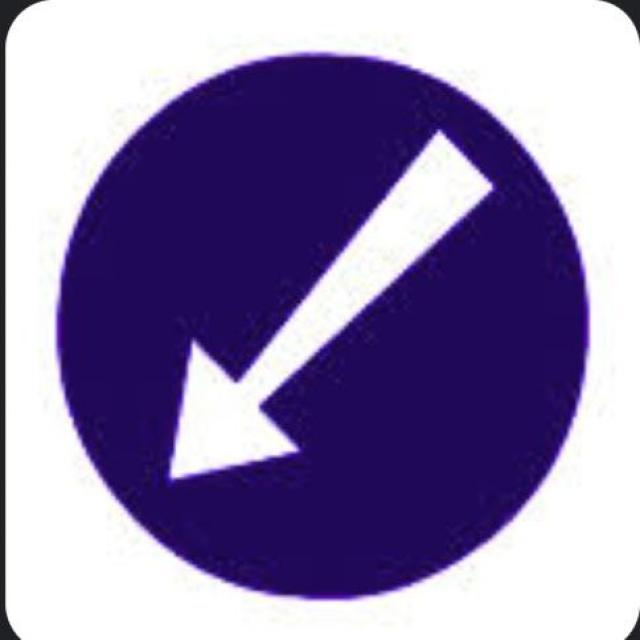compulsary keep left: (47, 41, 604, 607)
